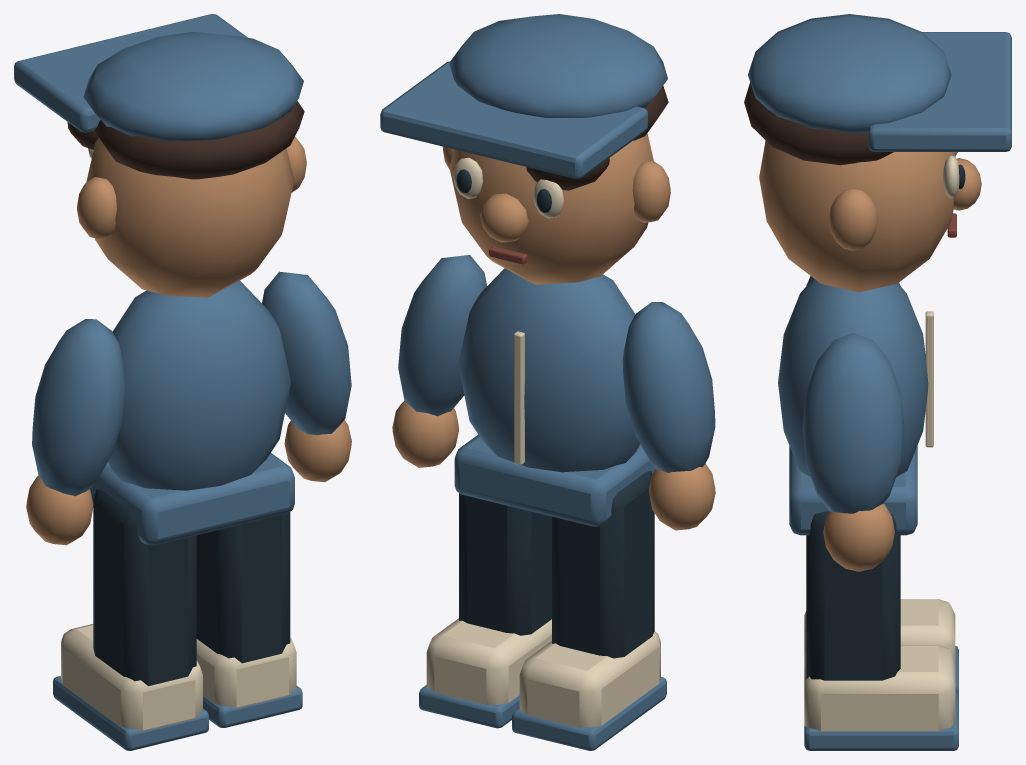
File: person_0.glb
The picture shows the model from 3 angles, left to right: view 1: azimuth 30°, elevation 25°; view 2: azimuth 150°, elevation 25°; view 3: azimuth 270°, elevation 25°; orthographic projection.
Visible parts, largest first — view 1: person_0.001; view 2: person_0.001; view 3: person_0.001.
Part boxes in pixels (x1,y1,x2,y2): person_0.001: [14, 14, 351, 750]; person_0.001: [380, 14, 715, 750]; person_0.001: [744, 14, 1011, 750].
Bounding box in the file's own units: 0.98 × 1.96 × 0.71.
